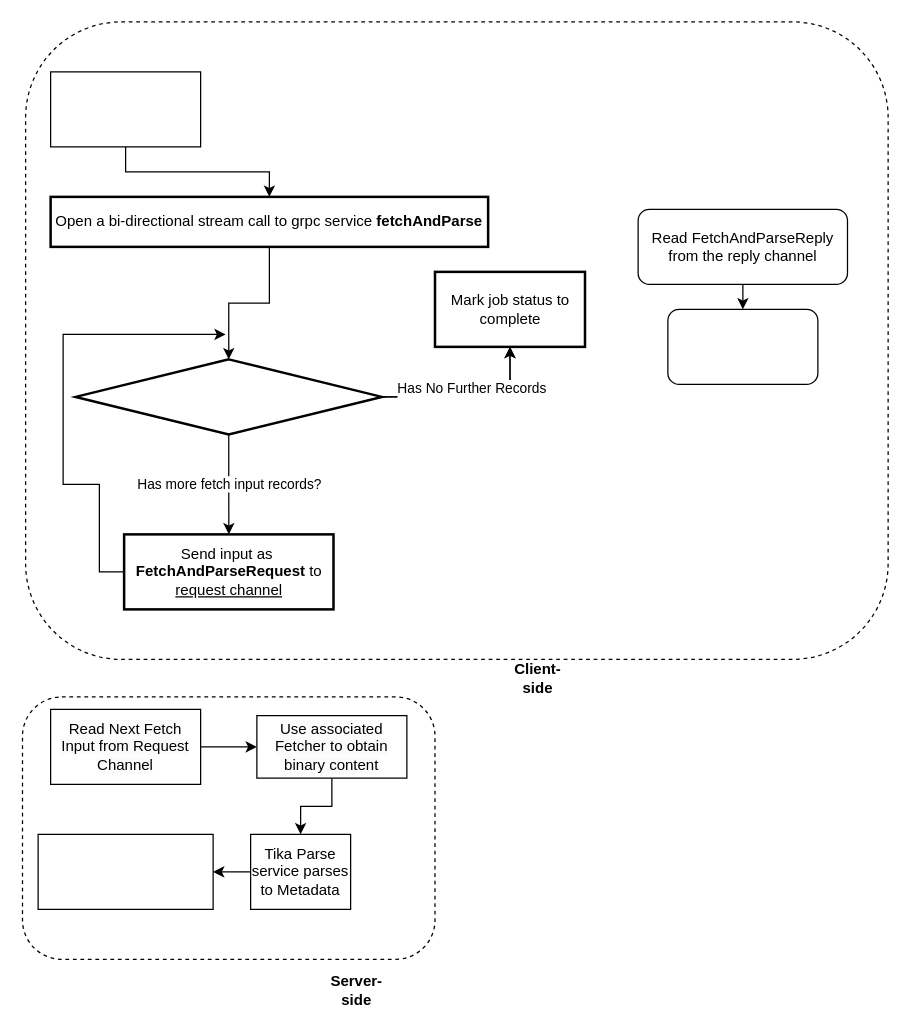
Image size: 910x1031. Some labels were removed from this diagram. Here are the shapes that lost their labels. From the top down, the centre of each, then its label:
At point (125, 109): "Pipe Job Start".
At point (742, 346): "Use emitter to emit the FetchAndParse reply to destination".
At point (228, 396): "Get Next FetchInput From Pipe Iterator".
At point (125, 871): "Sends metadata as FetchAndParseReply to reply channel".
